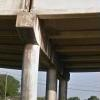Bridge: (7, 2, 96, 86)
